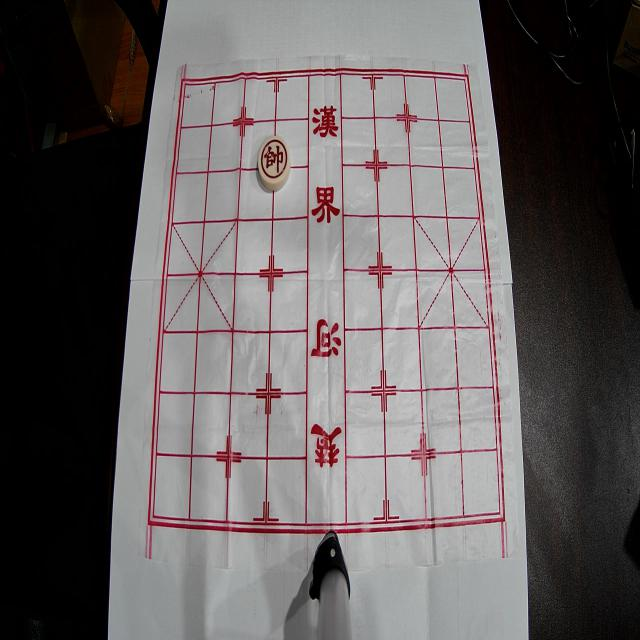red-general: (258, 137, 290, 191)
